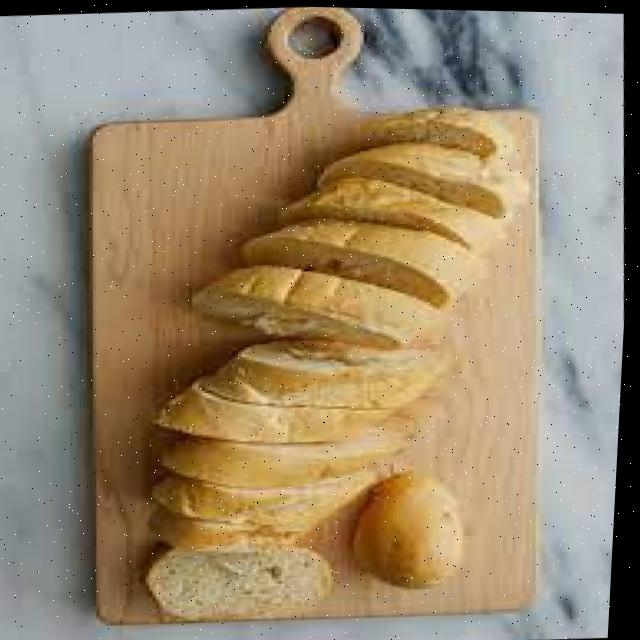Bread: (0, 6, 626, 640), (160, 339, 447, 441), (245, 217, 474, 306), (195, 264, 440, 347), (281, 175, 498, 248), (319, 141, 506, 213), (152, 543, 336, 615)
